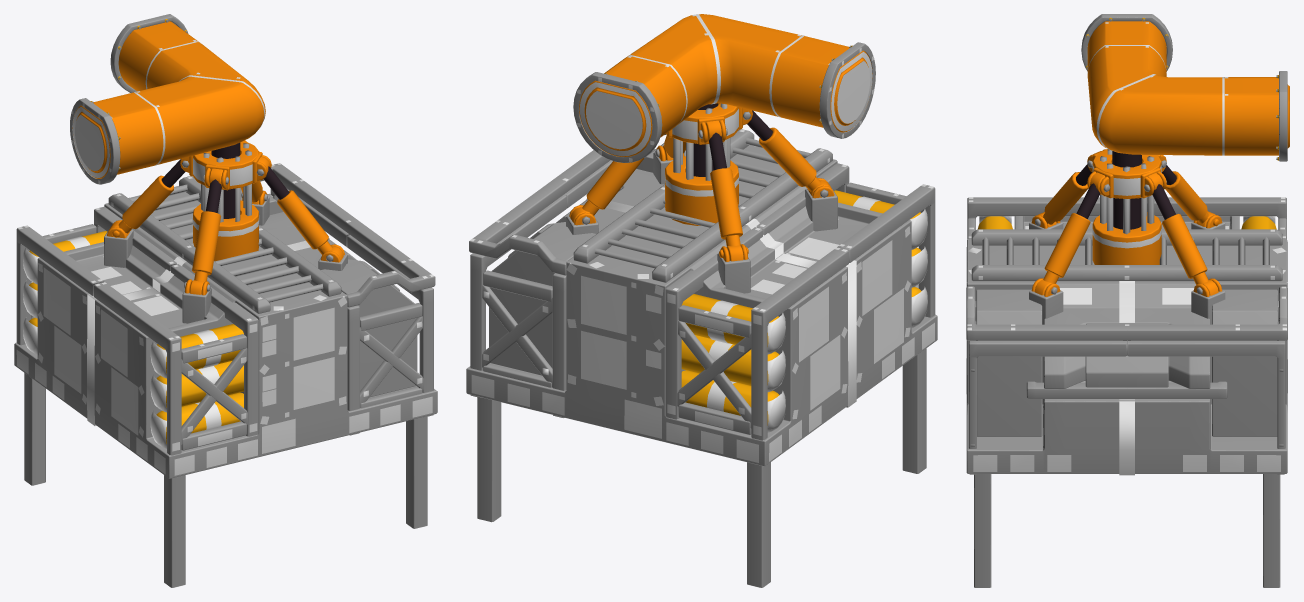
File: CipherPlatform_L.fbx
3 views of the same model, side by side, from view 1: azimuth 30°, elevation 25°; view 2: azimuth 150°, elevation 25°; view 3: azimuth 270°, elevation 25° (orthographic). The views are drawn at different scales.
Parts seen in each view (by area): view 1: Cube.109, Cube.111, Cylinder.010, Cube.113, Cube.112, StylizedHardSurface_Decals_017.003_projected.003, Cylinder.012, StylizedHardSurface_Decals_054.003_projected.003, StylizedHardSurface_Decals_054.004_projected.003, StylizedHardSurface_Panels_006.006, StylizedHardSurface_Decals_048.005_projected.003, StylizedHardSurface_Decals_048.001_projected.003 (+10 smaller); view 2: Cube.109, Cube.111, Cylinder.010, Cube.113, Cube.112, StylizedHardSurface_Decals_017.004_projected.002, Cylinder.012, StylizedHardSurface_Decals_017.003_projected.003, StylizedHardSurface_Decals_054.003_projected.003, StylizedHardSurface_Decals_054.004_projected.003, StylizedHardSurface_Panels_006.006, StylizedHardSurface_TrimDecals_010.001 (+11 smaller); view 3: Cube.109, Cube.111, Cylinder.010, Cube.113, Cube.112, Cylinder.012, StylizedHardSurface_Panels_006.006, StylizedHardSurface_Decals_056.068_projected.003, StylizedHardSurface_Decals_040.006_projected.003, StylizedHardSurface_Decals_040.007_projected.003, StylizedHardSurface_Decals_040.008_projected.003, StylizedHardSurface_Panels_009.017 (+1 smaller).
Part boxes in pixels (x1,y1,x2,y2): Cube.109: (14, 141, 437, 587); Cube.111: (16, 164, 435, 455); Cylinder.010: (72, 21, 265, 178); Cube.113: (104, 140, 347, 323); Cube.112: (129, 143, 323, 302); StylizedHardSurface_Decals_017.003_projected.003: (23, 247, 166, 448); Cylinder.012: (70, 14, 188, 184); StylizedHardSurface_Decals_054.003_projected.003: (293, 307, 334, 360); StylizedHardSurface_Decals_054.004_projected.003: (293, 357, 334, 409); StylizedHardSurface_Panels_006.006: (87, 240, 310, 425); StylizedHardSurface_Decals_048.005_projected.003: (111, 367, 138, 435); StylizedHardSurface_Decals_048.001_projected.003: (43, 267, 70, 335); Cube.109: (466, 103, 937, 587); Cube.111: (469, 134, 935, 440); Cylinder.010: (579, 14, 872, 156); Cube.113: (566, 107, 837, 293); Cube.112: (595, 103, 810, 268); StylizedHardSurface_Decals_017.004_projected.002: (586, 61, 870, 149); Cylinder.012: (573, 42, 875, 162); StylizedHardSurface_Decals_017.003_projected.003: (767, 209, 927, 432); StylizedHardSurface_Decals_054.003_projected.003: (581, 275, 626, 334); StylizedHardSurface_Decals_054.004_projected.003: (581, 330, 626, 389); StylizedHardSurface_Panels_006.006: (606, 201, 856, 407); StylizedHardSurface_TrimDecals_010.001: (579, 52, 872, 156); Cube.109: (966, 149, 1287, 587); Cube.111: (966, 197, 1287, 474); Cylinder.010: (1087, 21, 1289, 155); Cube.113: (1029, 149, 1225, 324); Cube.112: (982, 149, 1269, 264); Cylinder.012: (1081, 14, 1287, 161); StylizedHardSurface_Panels_006.006: (1119, 281, 1134, 475); StylizedHardSurface_Decals_056.068_projected.003: (1059, 288, 1194, 304); StylizedHardSurface_Decals_040.006_projected.003: (973, 455, 1280, 471); StylizedHardSurface_Decals_040.007_projected.003: (1010, 455, 1243, 471); StylizedHardSurface_Decals_040.008_projected.003: (1047, 455, 1206, 471); StylizedHardSurface_Panels_009.017: (1092, 165, 1161, 195).
Size of the model in its own units: 1009 by 1517 by 1009.
